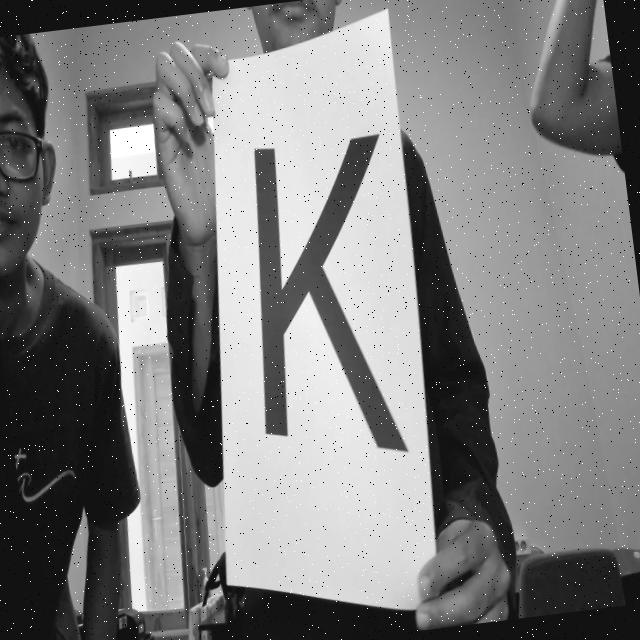k: (216, 89, 450, 494)
